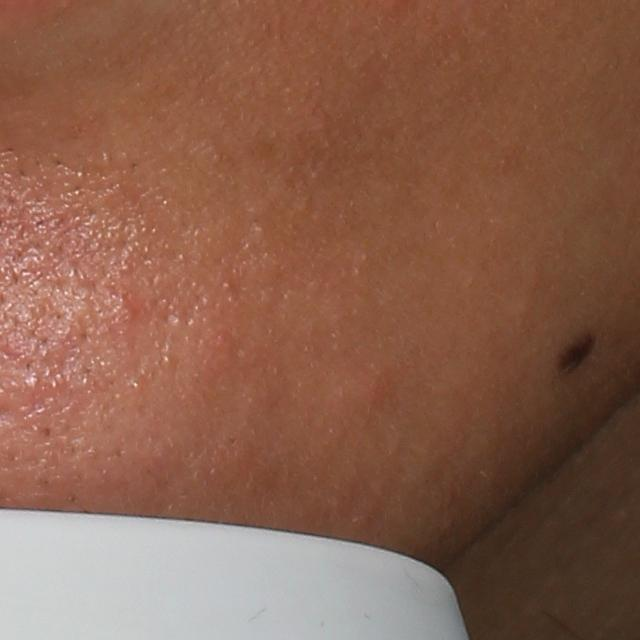nevus: (551, 328, 594, 382)
